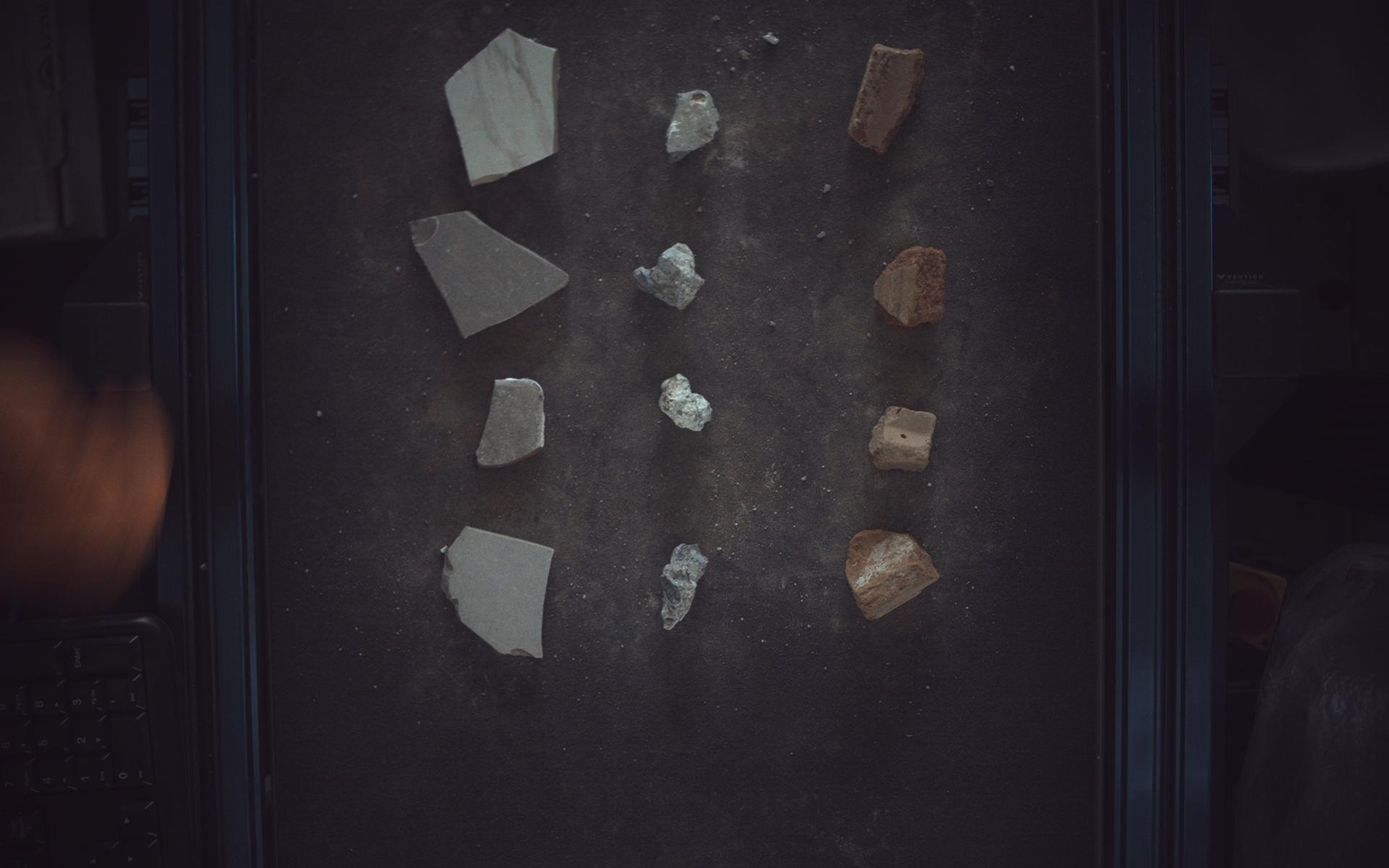brick: (847, 530, 941, 621), (850, 42, 926, 154), (876, 246, 948, 326), (870, 407, 938, 471)
concrete: (634, 242, 705, 310), (662, 545, 710, 631), (668, 89, 721, 161), (660, 373, 713, 432)
tile: (409, 211, 569, 338), (445, 27, 558, 185), (442, 527, 554, 659), (476, 378, 544, 467)
